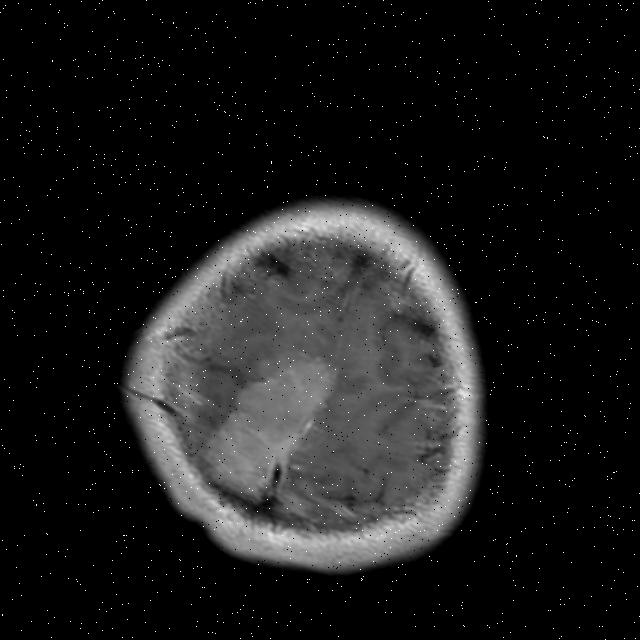Meningioma: (192, 322, 343, 527)
